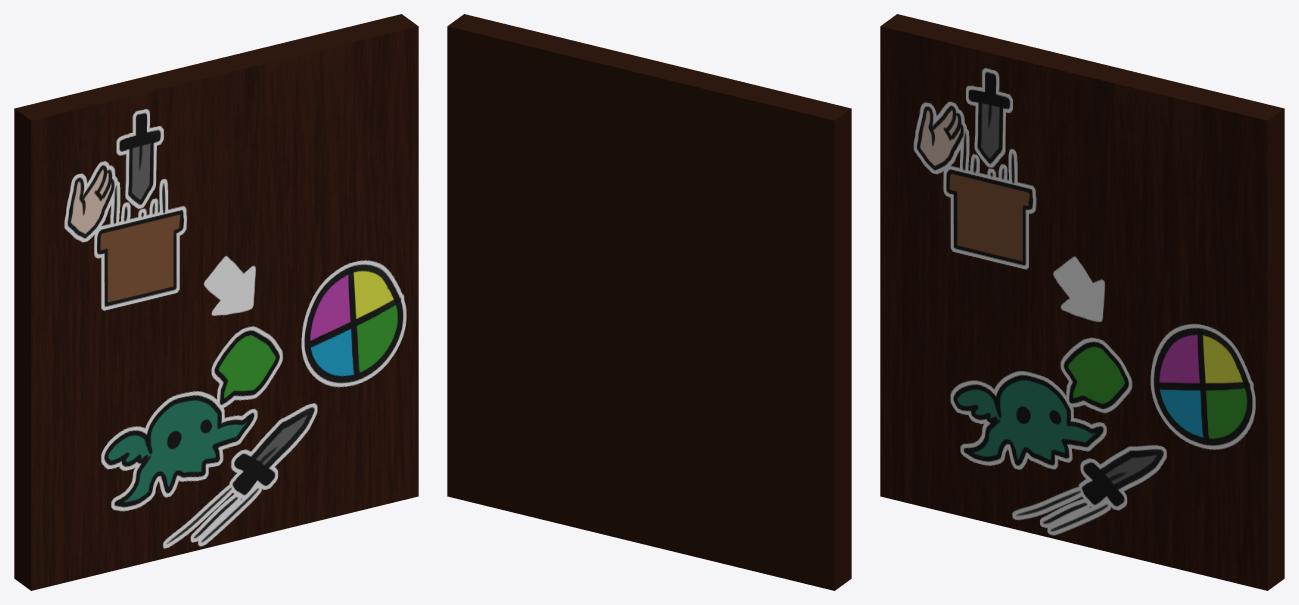
File: DartsTutBoard.fbx
The picture shows the model from 3 angles, left to right: view 1: azimuth 30°, elevation 25°; view 2: azimuth 150°, elevation 25°; view 3: azimuth 330°, elevation 25°; orthographic projection.
Visible parts, largest first — view 1: pCube1; view 2: pCube1; view 3: pCube1.
Boxes of the visible parts, <box> form: pCube1: <box>14,14,418,590</box>; pCube1: <box>447,14,851,590</box>; pCube1: <box>880,14,1284,590</box>.
Bounding box in the file's own units: 40 × 46.4 × 3.
